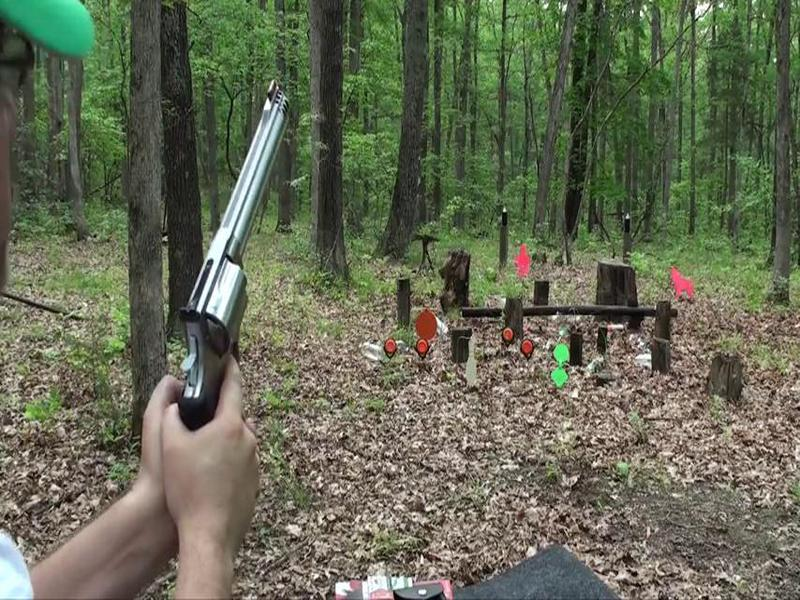Revolver: (167, 94, 324, 446)
